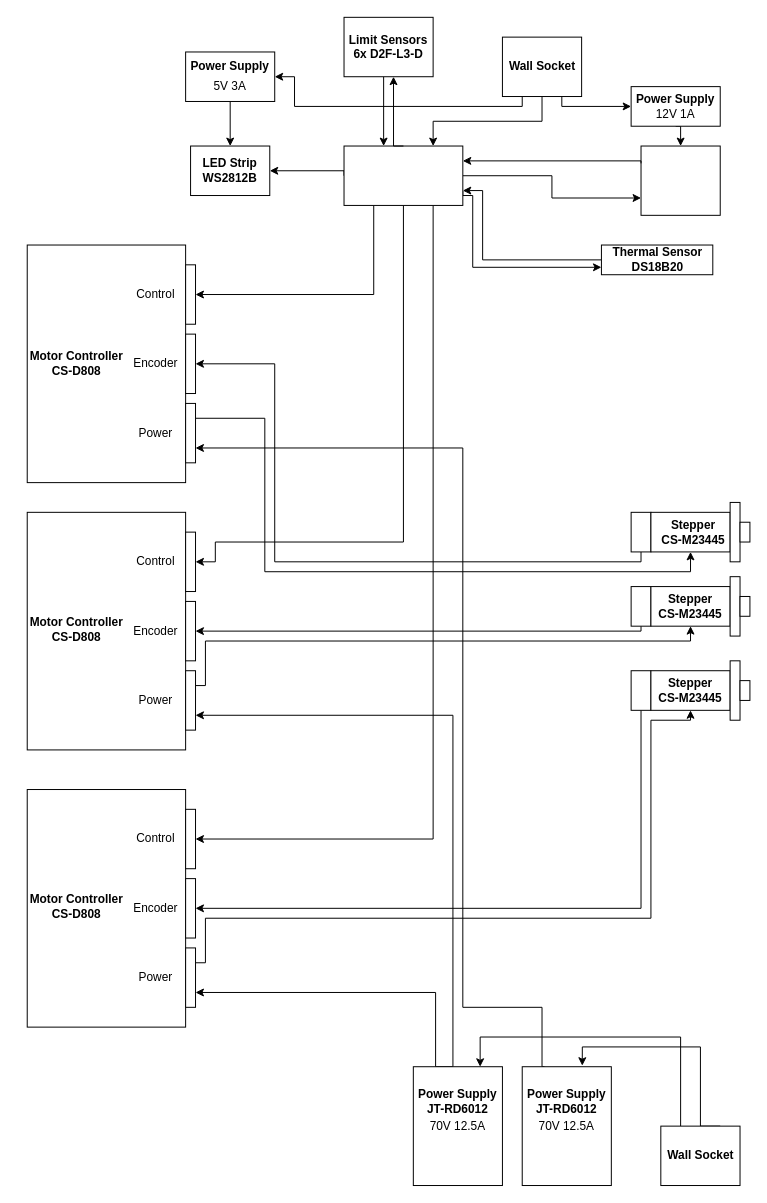
Image size: 767x1203. Some labels were removed from this diagram. Each missing label, with the centre of its shape:
PWM Fan: the point at 680,180
Rasberry Pi 5 4GT: the point at 403,175
